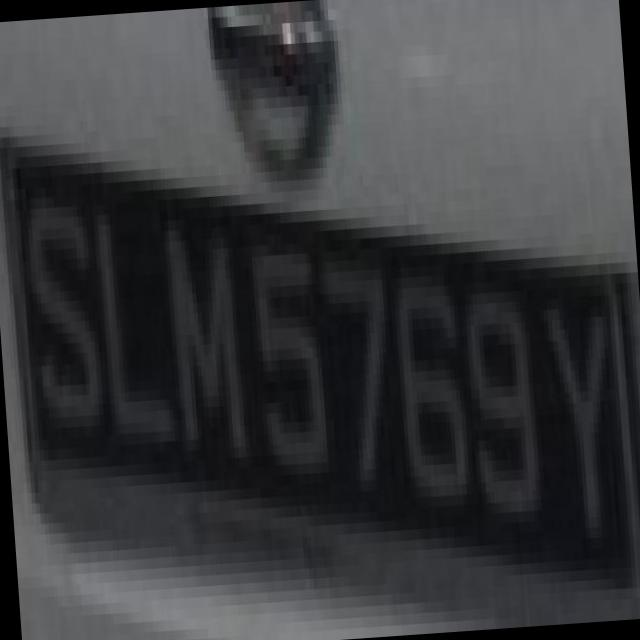2: (5, 172, 110, 420)
5: (230, 220, 336, 467)
6: (376, 252, 474, 500)
7: (312, 236, 408, 483)
9: (446, 258, 544, 505)
L: (72, 189, 178, 436)
M: (143, 194, 254, 463)
Y: (524, 262, 640, 520)
